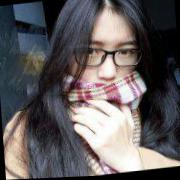WRONG: (66, 30, 147, 114)
